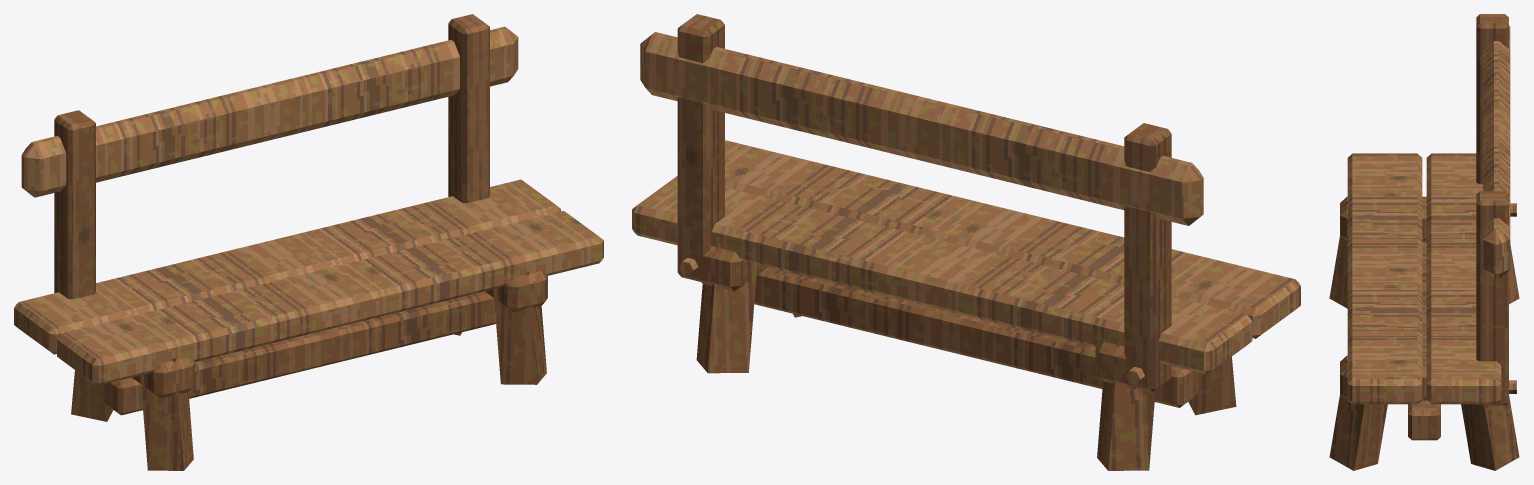
The model's file is holm_arrival_bench_oldschool_v1.glb.
3 views of the same model, side by side, from view 1: azimuth 30°, elevation 25°; view 2: azimuth 150°, elevation 25°; view 3: azimuth 270°, elevation 25° (orthographic). The views are drawn at different scales.
Parts seen in each view (by area): view 1: LandingOakBench_Landing_cut_oak, LandingOakBench_Landing_aged_oak; view 2: LandingOakBench_Landing_cut_oak, LandingOakBench_Landing_aged_oak; view 3: LandingOakBench_Landing_cut_oak, LandingOakBench_Landing_aged_oak.
Part boxes in pixels (x1,y1,x2,y2): LandingOakBench_Landing_cut_oak: (14, 26, 603, 385); LandingOakBench_Landing_aged_oak: (54, 14, 547, 470); LandingOakBench_Landing_cut_oak: (632, 32, 1300, 385); LandingOakBench_Landing_aged_oak: (677, 14, 1236, 470); LandingOakBench_Landing_cut_oak: (1347, 26, 1516, 404); LandingOakBench_Landing_aged_oak: (1329, 14, 1519, 470).
Bounding box in the file's own units: 2 × 1.12 × 0.698.
Materials: 2 (2 with a texture image).
